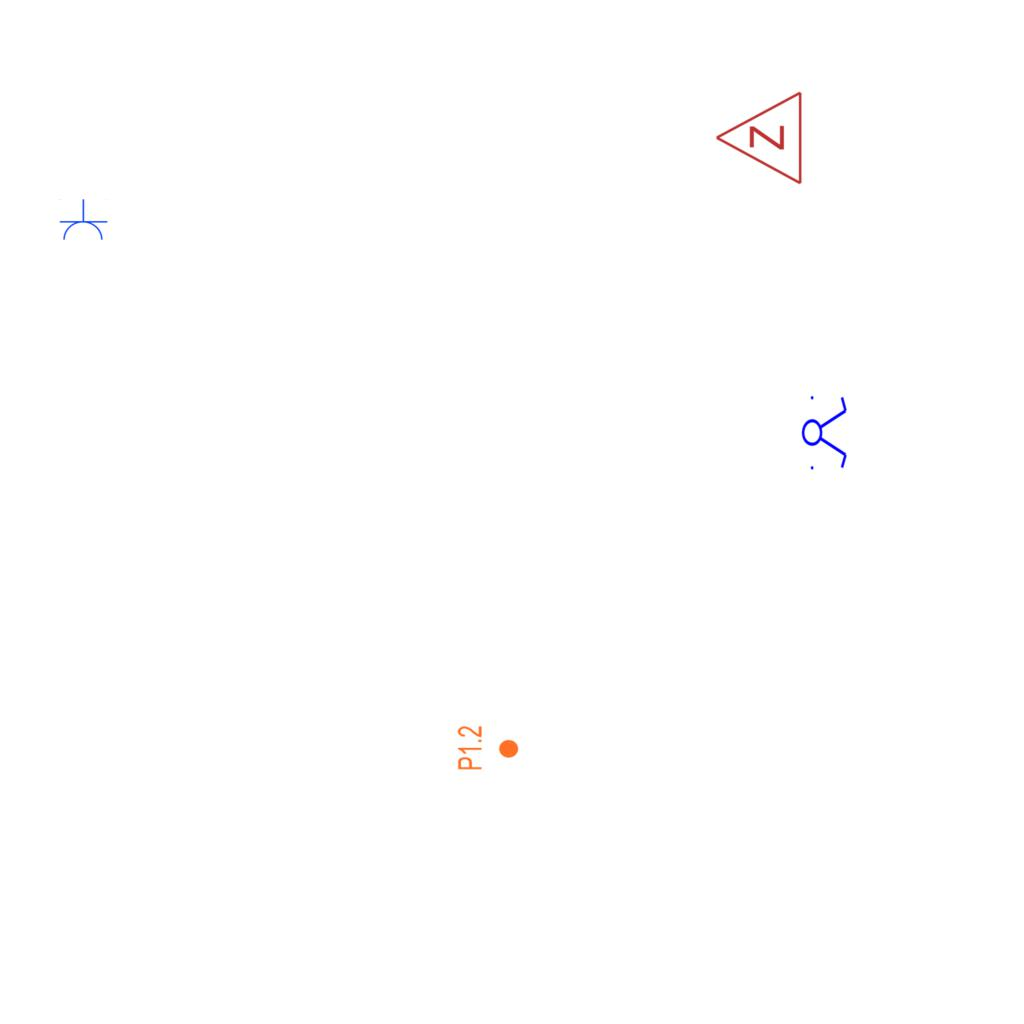Downlight_LED_Einbauleuchten_Flur: (456, 725, 520, 771)
Schukosteckdose_einfach: (58, 199, 108, 242)
Serienschalter: (801, 390, 849, 474)
Zimmersignalleuchte: (709, 90, 809, 188)
